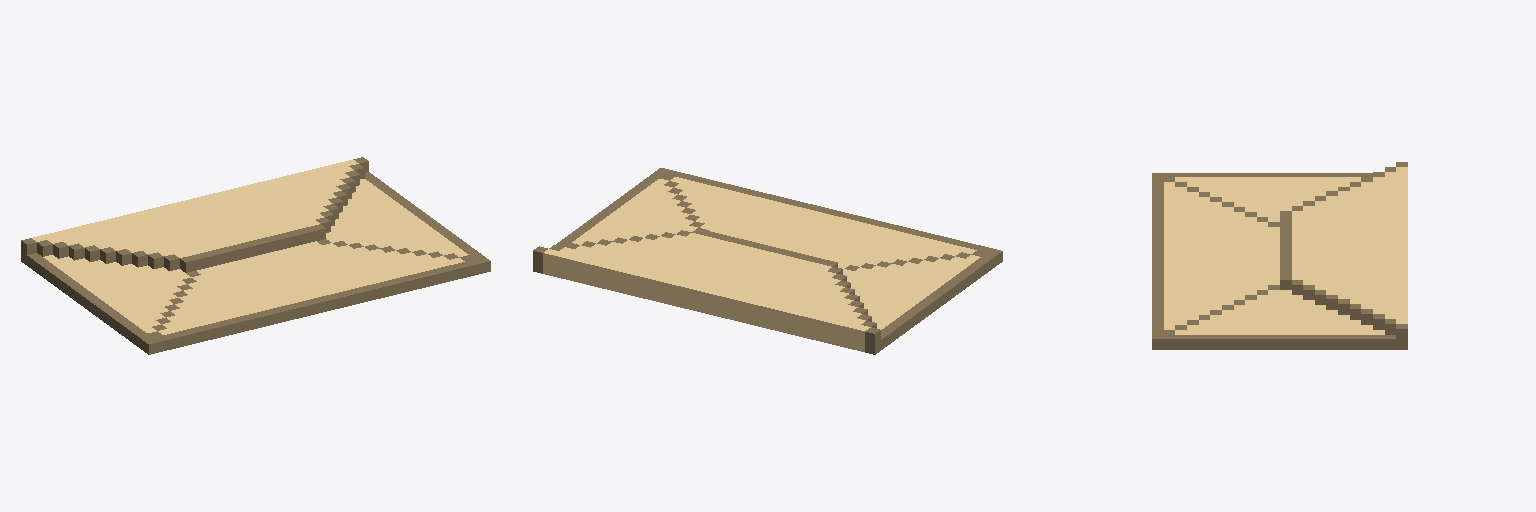
3 views of the same model, side by side, from view 1: azimuth 30°, elevation 25°; view 2: azimuth 150°, elevation 25°; view 3: azimuth 270°, elevation 25° (orthographic).
Parts seen in each view (by area): view 1: object 1; view 2: object 1; view 3: object 1.
Boxes of the visible parts, x1,y1,x2,y2 form: object 1: [21, 157, 490, 354]; object 1: [533, 168, 1002, 354]; object 1: [1152, 162, 1407, 349].
Size of the model in its own units: 3.4 by 0.2 by 2.2.
Materials: 1 (1 with a texture image).